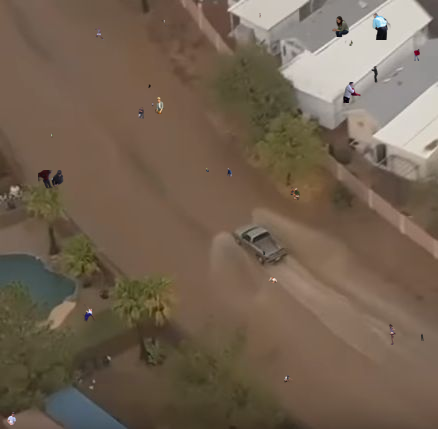Human: (38, 170, 64, 190), (372, 13, 391, 40), (76, 304, 98, 327), (331, 16, 349, 37), (343, 82, 361, 103), (155, 97, 165, 114), (389, 324, 396, 345), (290, 187, 300, 200), (95, 26, 104, 40), (371, 66, 378, 83), (7, 412, 16, 425), (342, 39, 353, 46), (284, 375, 293, 383), (414, 49, 420, 61), (138, 107, 144, 119), (268, 277, 277, 284), (256, 250, 266, 256), (106, 354, 112, 364), (161, 20, 169, 27), (88, 384, 94, 393), (227, 168, 232, 178), (421, 333, 424, 341), (206, 168, 209, 172), (148, 84, 151, 88), (152, 102, 154, 107), (259, 13, 261, 18), (51, 133, 53, 138)
